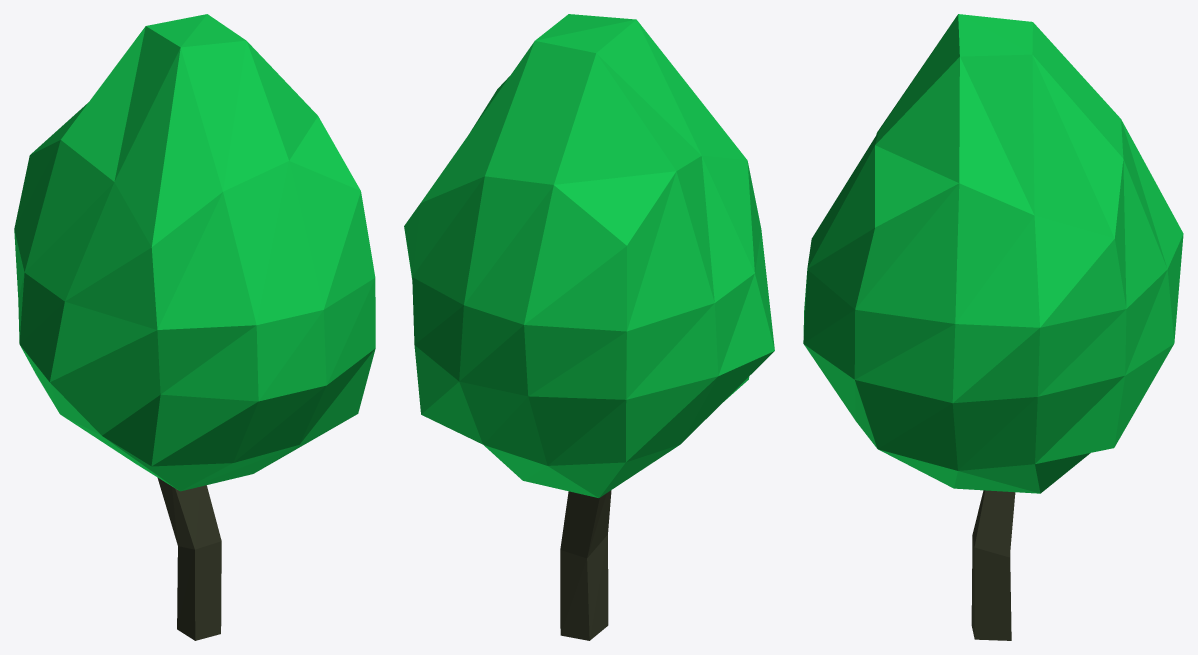
File: 棉花树.fbx
The picture shows the model from 3 angles, left to right: view 1: azimuth 30°, elevation 25°; view 2: azimuth 150°, elevation 25°; view 3: azimuth 270°, elevation 25°; orthographic projection.
Visible parts, largest first — view 1: 立方体_2; view 2: 立方体_2; view 3: 立方体_2.
Boxes of the visible parts, x1,y1,x2,y2 form: 立方体_2: (14, 14, 375, 640); 立方体_2: (404, 14, 774, 640); 立方体_2: (803, 14, 1183, 640).
Size of the model in its own units: 326 by 580 by 332.
